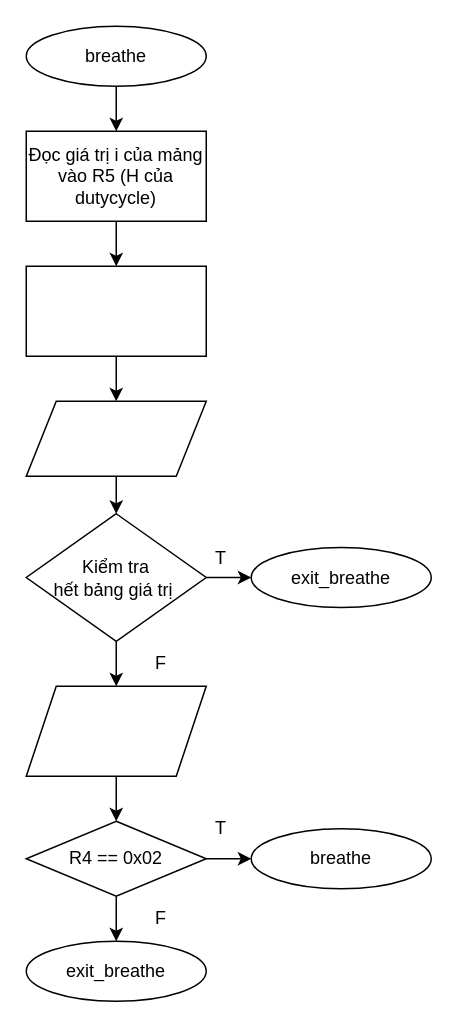
This 458x1028 diagram has some shape labels left out. The shapes that lost their labels are listed below. From the top down, each one's box as (x1, y1, x2, y2) in pixels, then its label:
(25, 265, 206, 356): Tính R6 = 5ms - R5 R6 là L của dutycyclehit
(25, 400, 206, 476): Bật tắt led theo duty cycle
(25, 685, 206, 776): Đọc nút breathe vào R4
